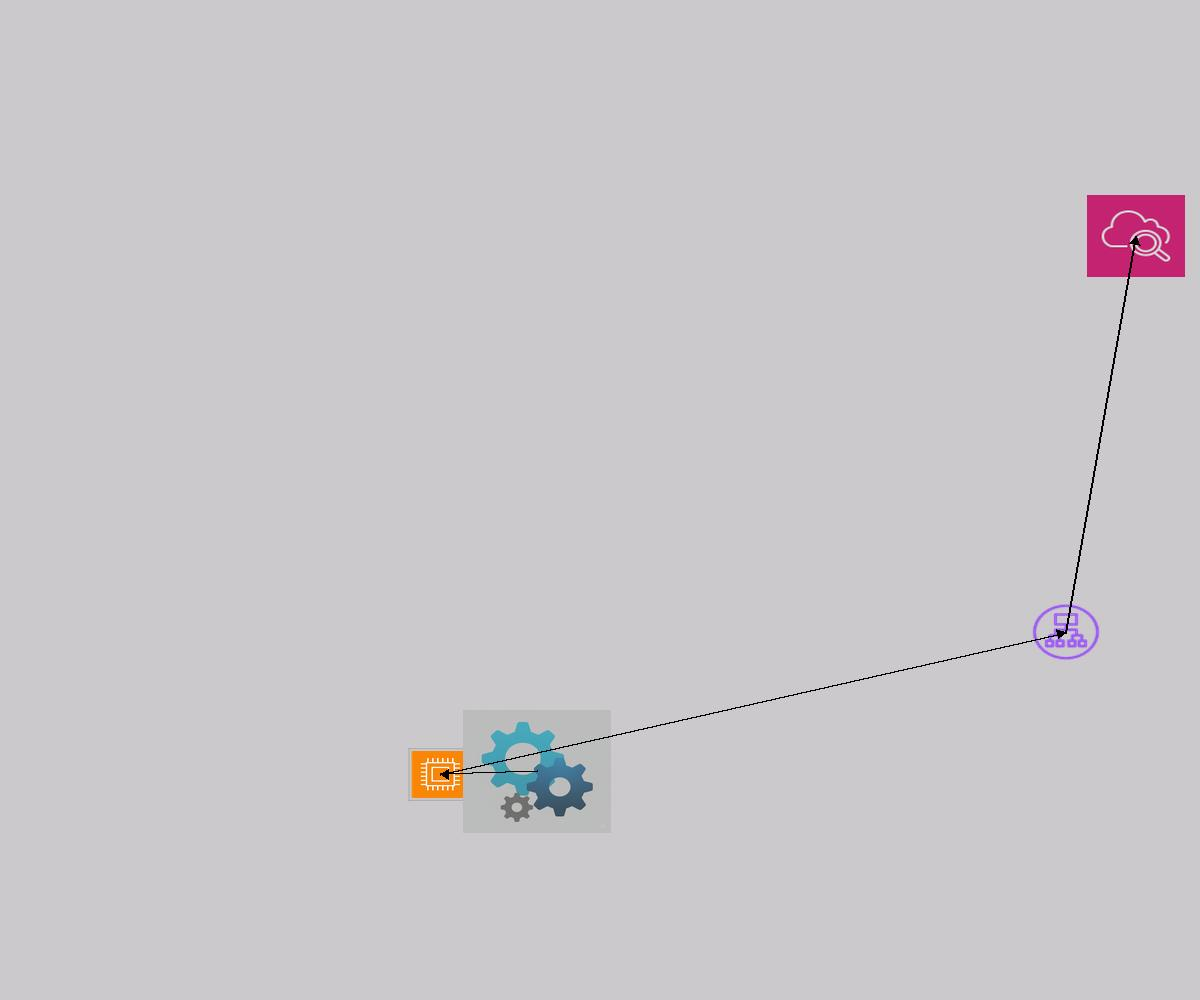AWS-Category_Compute: (408, 748, 472, 801)
AWS-CloudWatch: (1087, 195, 1185, 277)
AWS-Res_Elastic-Load-Balancing_Application-Load-Balancer: (1030, 602, 1102, 662)
Azure_api: (463, 710, 611, 833)
